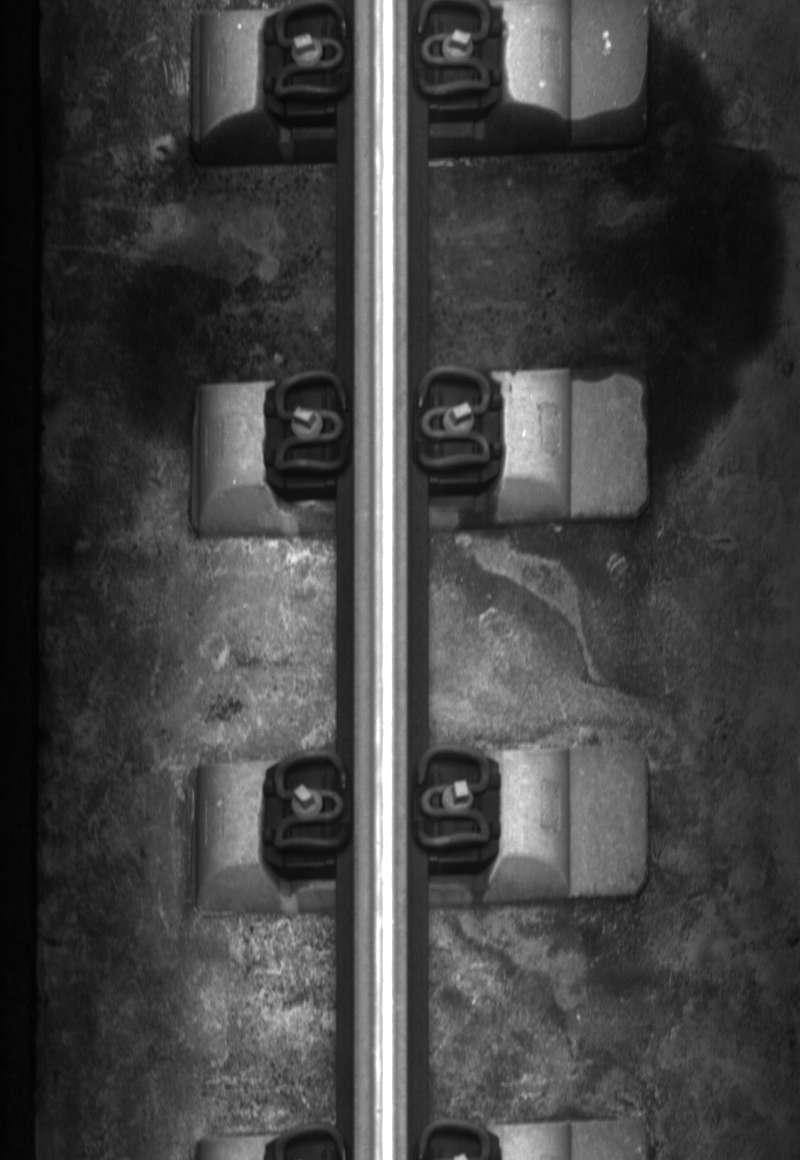l_faster: (270, 366, 353, 477), (268, 746, 350, 855)
r_faster: (413, 363, 495, 473), (413, 743, 494, 851)
